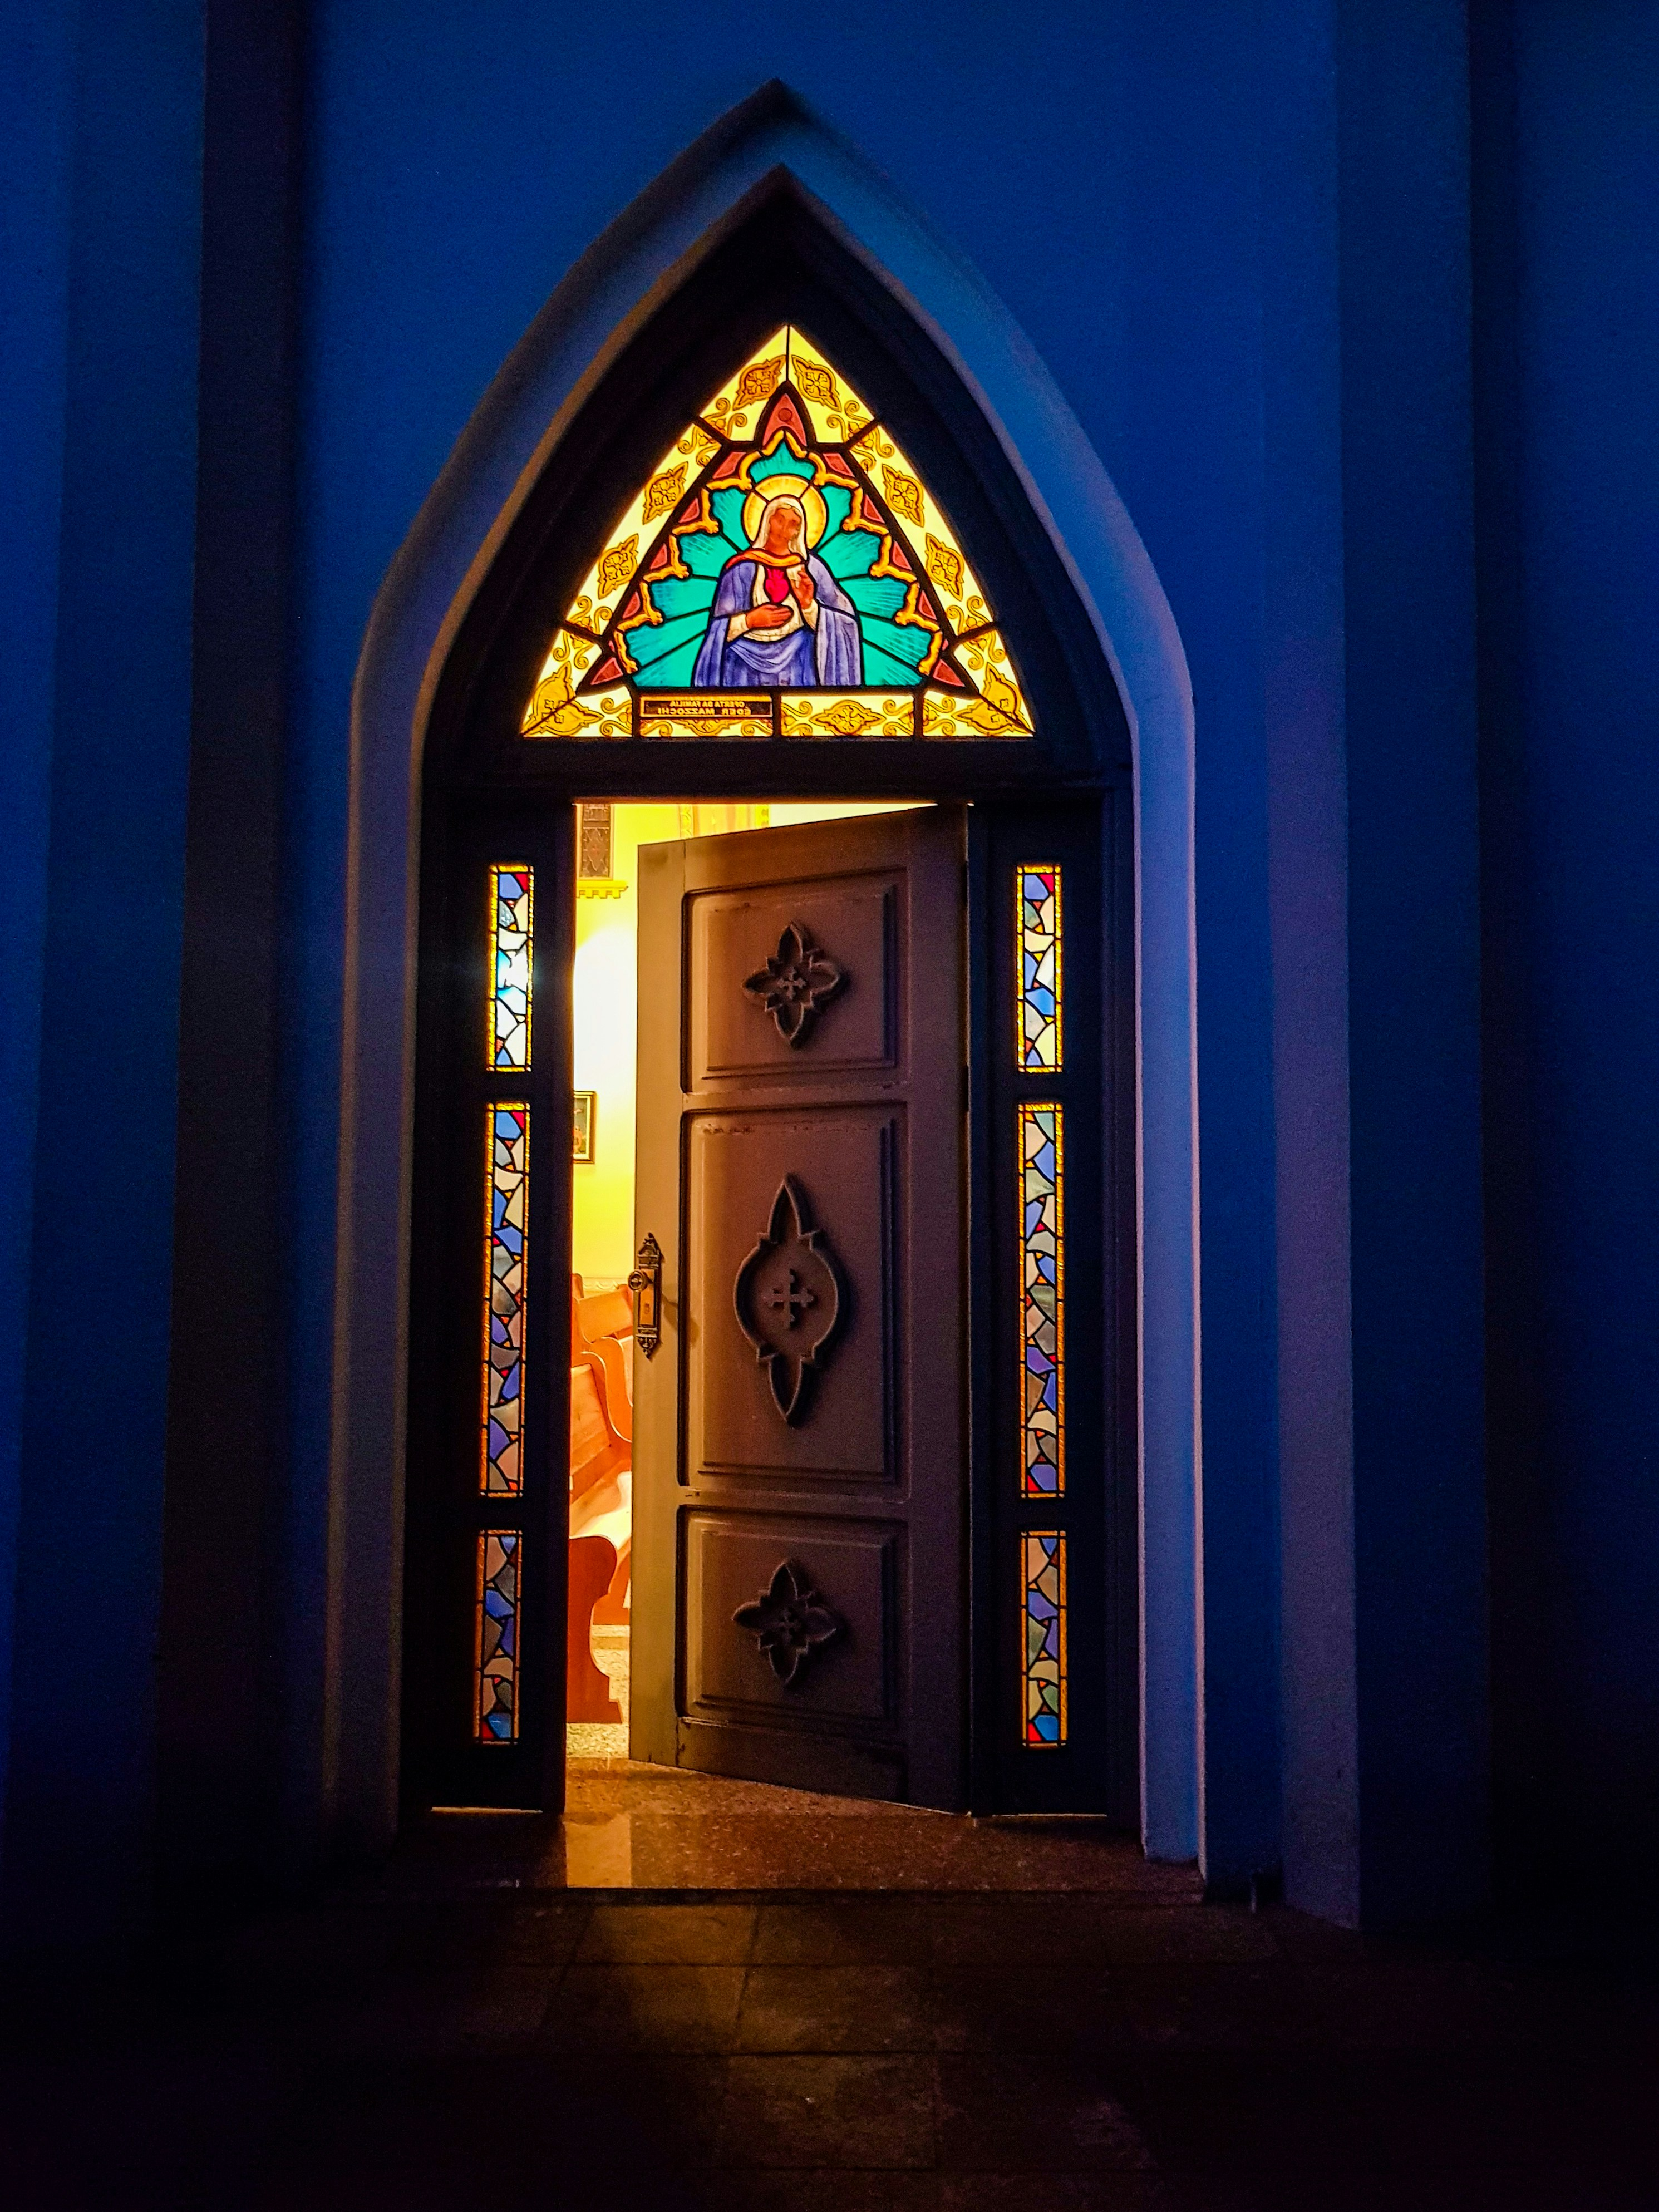door: (244, 63, 1303, 1908)
